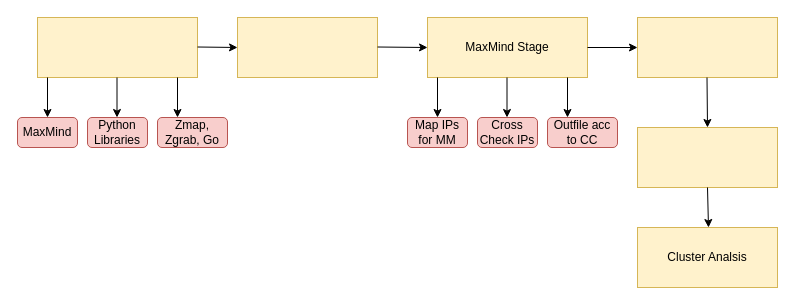
Some shapes in this 795 by 305 pixel diagram are drawn without their labels. The shapes that lost their labels are listed below. From the top down, each one's box as (x1, y1, x2, y2) in pixels, then its label:
(36, 16, 198, 78): Installing Dependencies
(236, 16, 378, 78): Script that runs all
(636, 16, 778, 78): ZMap
(636, 126, 778, 188): ZGrab
